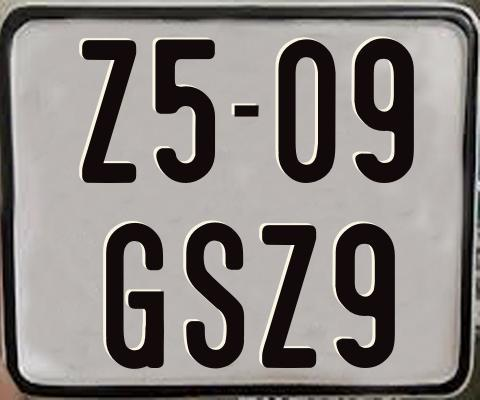0: (276, 36, 339, 184)
5: (154, 37, 219, 187)
9: (333, 222, 393, 370), (351, 36, 411, 183)
G: (106, 223, 169, 375)
S: (186, 221, 244, 374)
Z: (260, 225, 318, 374), (82, 39, 138, 183)
